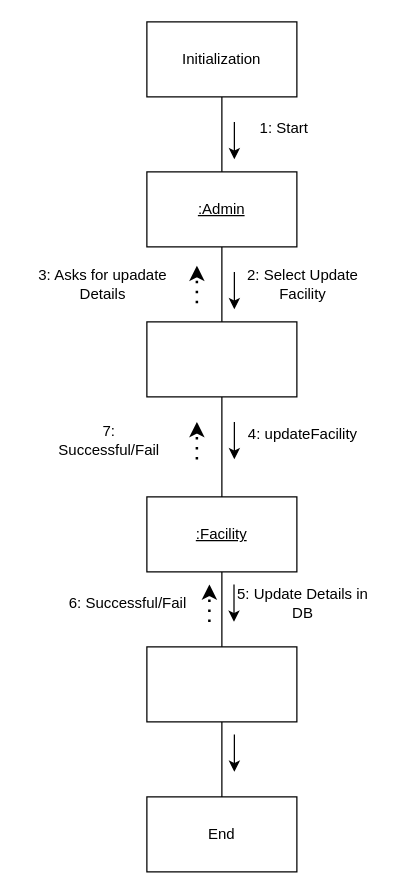
Image size: 405x894. Some labels were removed from this diagram. The centre of each missing label's shape, as x and y in pixels:
:DB: pixel 221 684
:System: pixel 221 359
